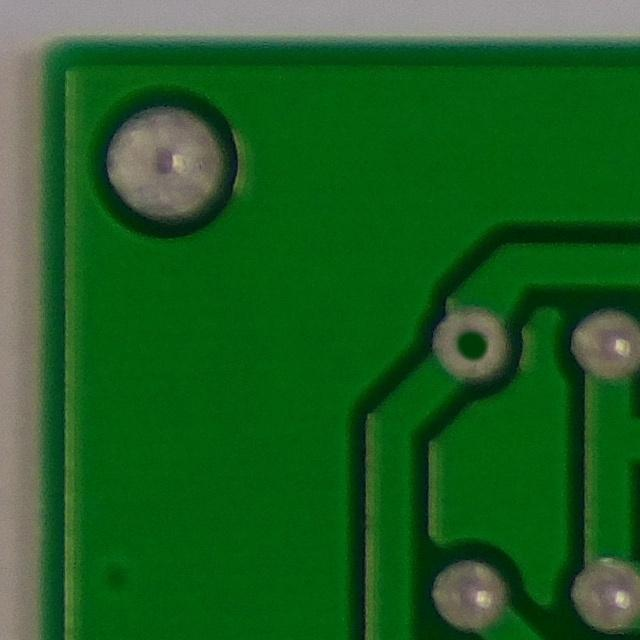missing_hole: (423, 300, 517, 389)
